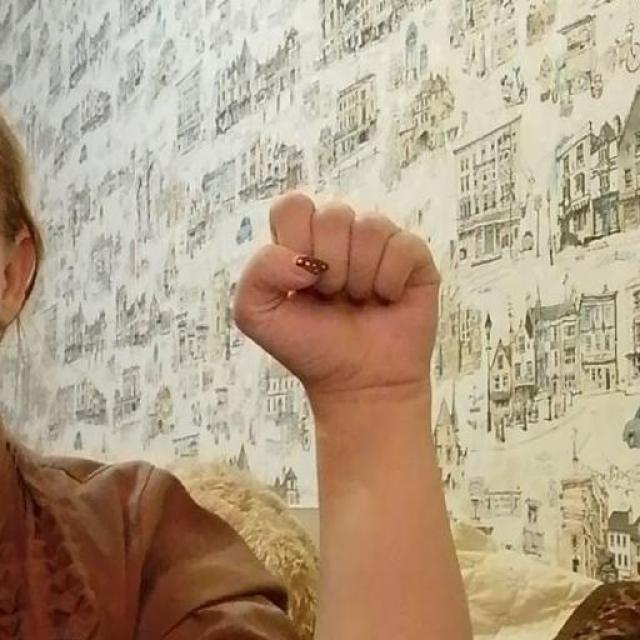hand: (232, 188, 443, 398)
